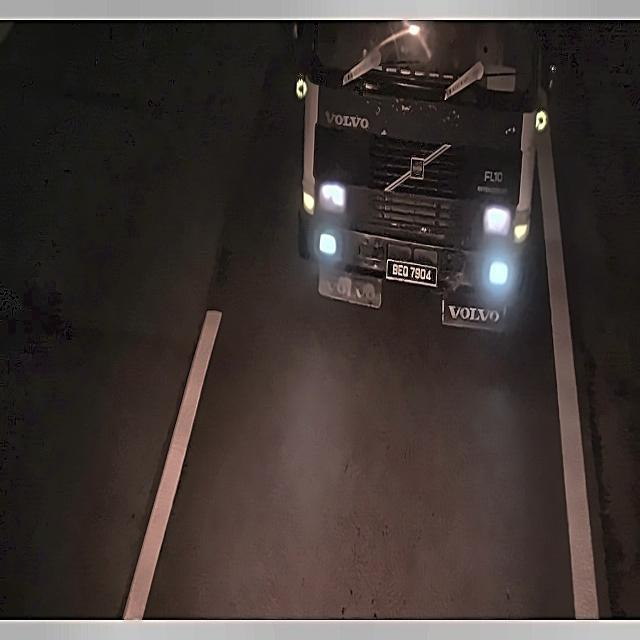car: (385, 256, 437, 290)
